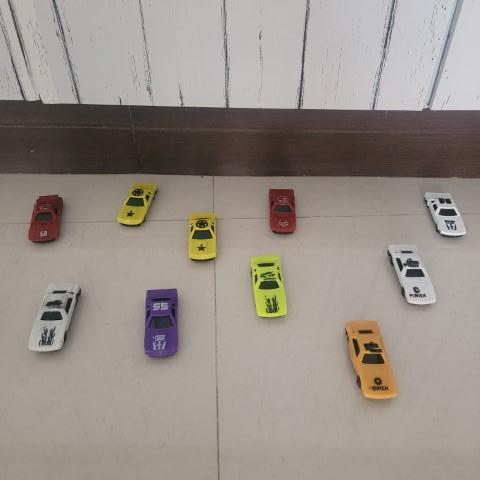car: (343, 319, 400, 400), (26, 283, 82, 356), (386, 242, 439, 311), (144, 282, 182, 359), (249, 251, 290, 319), (116, 177, 160, 231), (25, 190, 67, 245), (424, 190, 469, 240), (186, 209, 220, 263), (266, 185, 299, 236)
